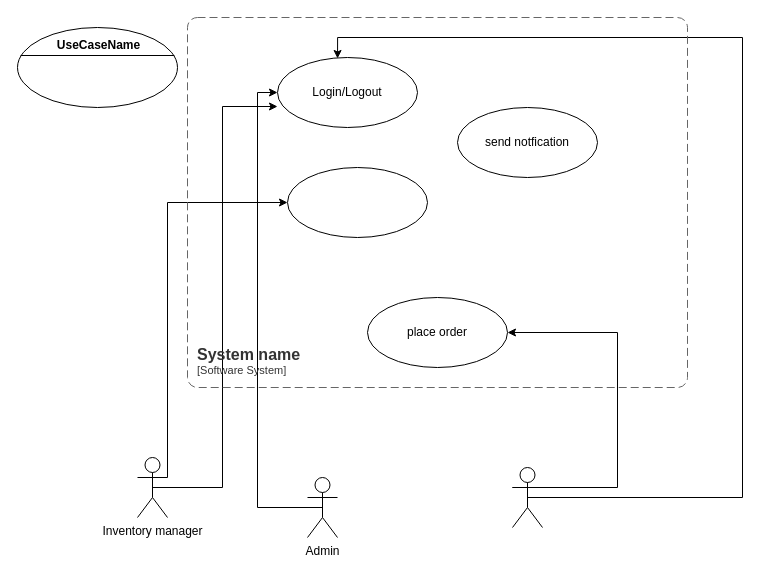
The diagram is 768 pixels wide and 576 high, and some of its shapes have lost their labels. The box of each missing label's shape, as (x1, y1, x2, y2) in pixels:
ActorName: (512, 466, 542, 528)
extension points p1, p2: (16, 26, 178, 108)
Manage inventory: (286, 166, 428, 238)
